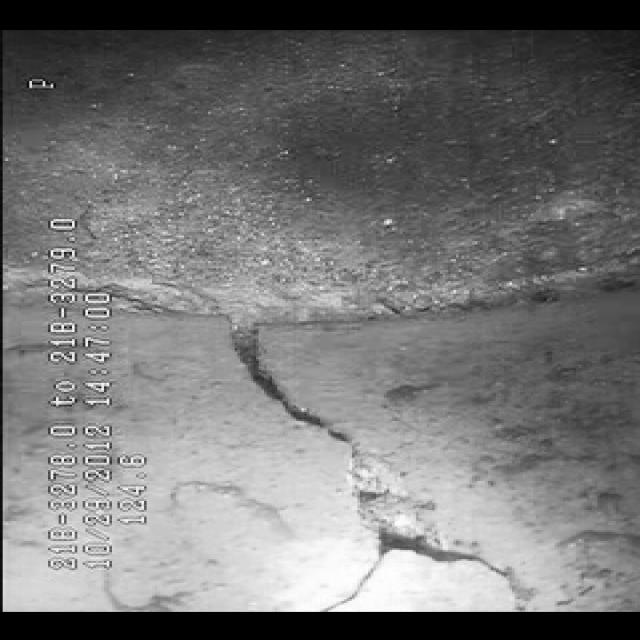Fracture: (215, 330, 512, 602)
